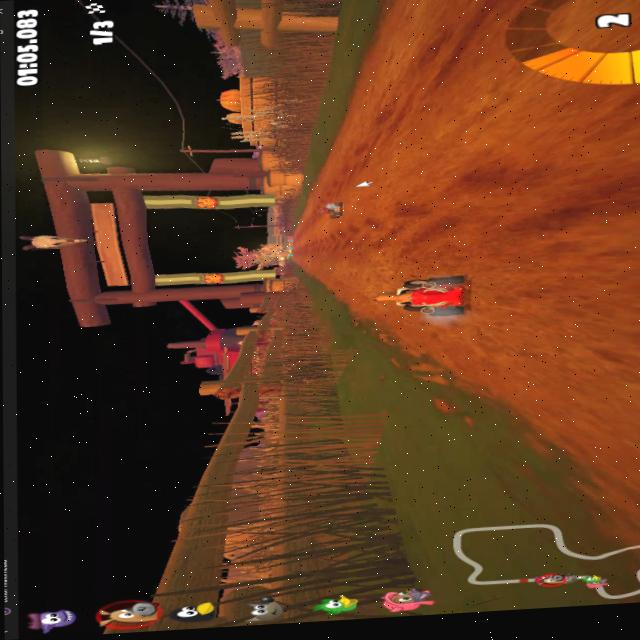enemy_kart: (322, 202, 348, 218)
player_kart: (371, 268, 478, 323)
track: (406, 0, 640, 211), (536, 198, 640, 450), (483, 204, 533, 407), (369, 209, 492, 271), (351, 86, 404, 215), (318, 217, 375, 286), (372, 0, 413, 85), (312, 128, 357, 203), (423, 317, 484, 370), (286, 228, 319, 256), (389, 320, 422, 341), (289, 210, 315, 227), (334, 284, 364, 298), (299, 254, 323, 269)
